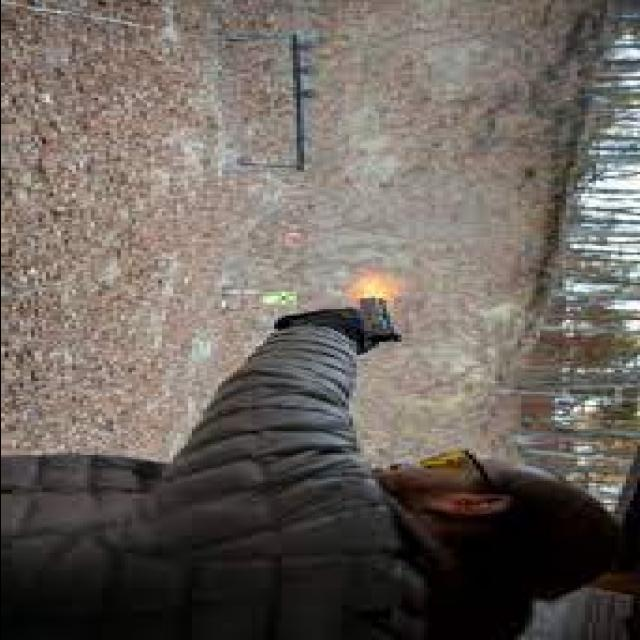weapons: (264, 287, 426, 369)
